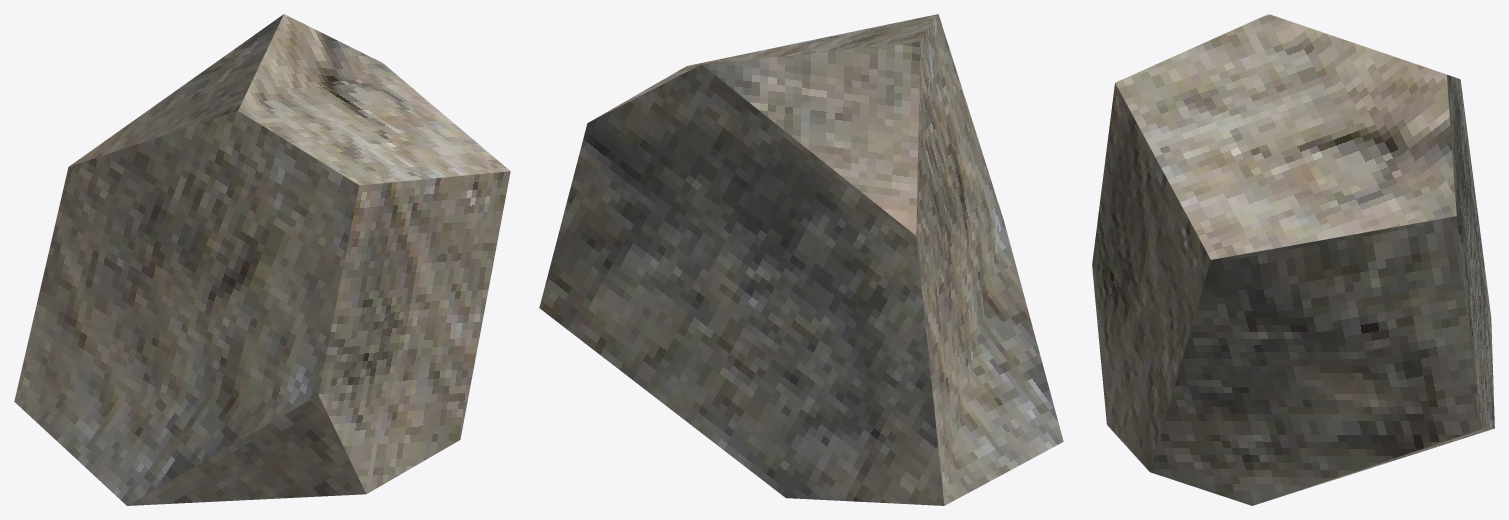
The model's file is rock.gltf.
3 views of the same model, side by side, from view 1: azimuth 30°, elevation 25°; view 2: azimuth 150°, elevation 25°; view 3: azimuth 270°, elevation 25° (orthographic). The views are drawn at different scales.
Visible parts, largest first — view 1: Cube_Stonne_0; view 2: Cube_Stonne_0; view 3: Cube_Stonne_0.
Part boxes in pixels (x1,y1,x2,y2): Cube_Stonne_0: (14,14,510,505); Cube_Stonne_0: (539,14,1063,505); Cube_Stonne_0: (1092,14,1494,505).
Size of the model in its own units: 2.11 by 1.92 by 1.72.
Materials: 1 (1 with a texture image).
